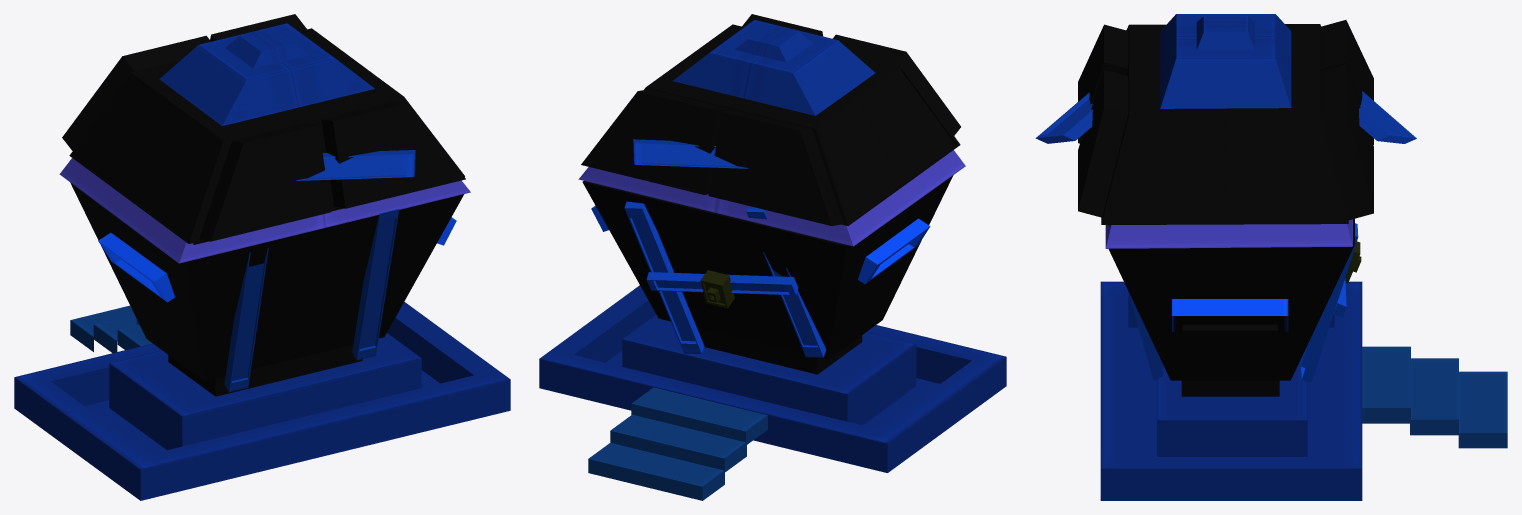
File: COFRE DE TESOROmafer.fbx
The picture shows the model from 3 angles, left to right: view 1: azimuth 30°, elevation 25°; view 2: azimuth 150°, elevation 25°; view 3: azimuth 270°, elevation 25°; orthographic projection. The views are drawn at different scales.
Parts seen in each view (by area): view 1: Parte tapa cofre, Soporte y Base, Cofre, Parte cofre abajo 2, Escalones, Parte cofre 1.001, Agarradera; view 2: Parte tapa cofre, Soporte y Base, Cofre, Escalones, Parte cofre abajo enfrente 1, Parte cofre 1, Agarradera, Cerradura; view 3: Parte tapa cofre, Soporte y Base, Cofre, Escalones, Agarradera, Parte cofre abajo enfrente 1, Parte cofre 1, Parte cofre 1.001, Parte cofre abajo 2.
Part boxes in pixels (left/top/right/bottom): Parte tapa cofre: left=59, top=14, right=470, bottom=263; Soporte y Base: left=14, top=302, right=510, bottom=500; Cofre: left=70, top=182, right=464, bottom=396; Parte cofre abajo 2: left=224, top=209, right=399, bottom=392; Escalones: left=70, top=305, right=152, bottom=353; Parte cofre 1.001: left=296, top=150, right=415, bottom=180; Agarradera: left=98, top=217, right=456, bottom=302; Parte tapa cofre: left=578, top=14, right=965, bottom=246; Soporte y Base: left=539, top=285, right=1006, bottom=472; Cofre: left=582, top=175, right=953, bottom=374; Escalones: left=588, top=387, right=767, bottom=500; Parte cofre abajo enfrente 1: left=624, top=201, right=826, bottom=357; Parte cofre 1: left=633, top=139, right=748, bottom=168; Agarradera: left=591, top=205, right=930, bottom=284; Cerradura: left=700, top=270, right=734, bottom=308; Parte tapa cofre: left=1078, top=14, right=1373, bottom=248; Soporte y Base: left=1100, top=281, right=1362, bottom=500; Cofre: left=1108, top=219, right=1354, bottom=396; Escalones: left=1362, top=346, right=1507, bottom=448; Agarradera: left=1172, top=299, right=1288, bottom=331; Parte cofre abajo enfrente 1: left=1301, top=223, right=1358, bottom=383; Parte cofre 1: left=1359, top=91, right=1416, bottom=143; Parte cofre 1.001: left=1035, top=92, right=1092, bottom=143; Parte cofre abajo 2: left=1127, top=289, right=1163, bottom=380.
Size of the model in its own units: 338 by 332 by 361.
Materials: 12 (12 with a texture image).
